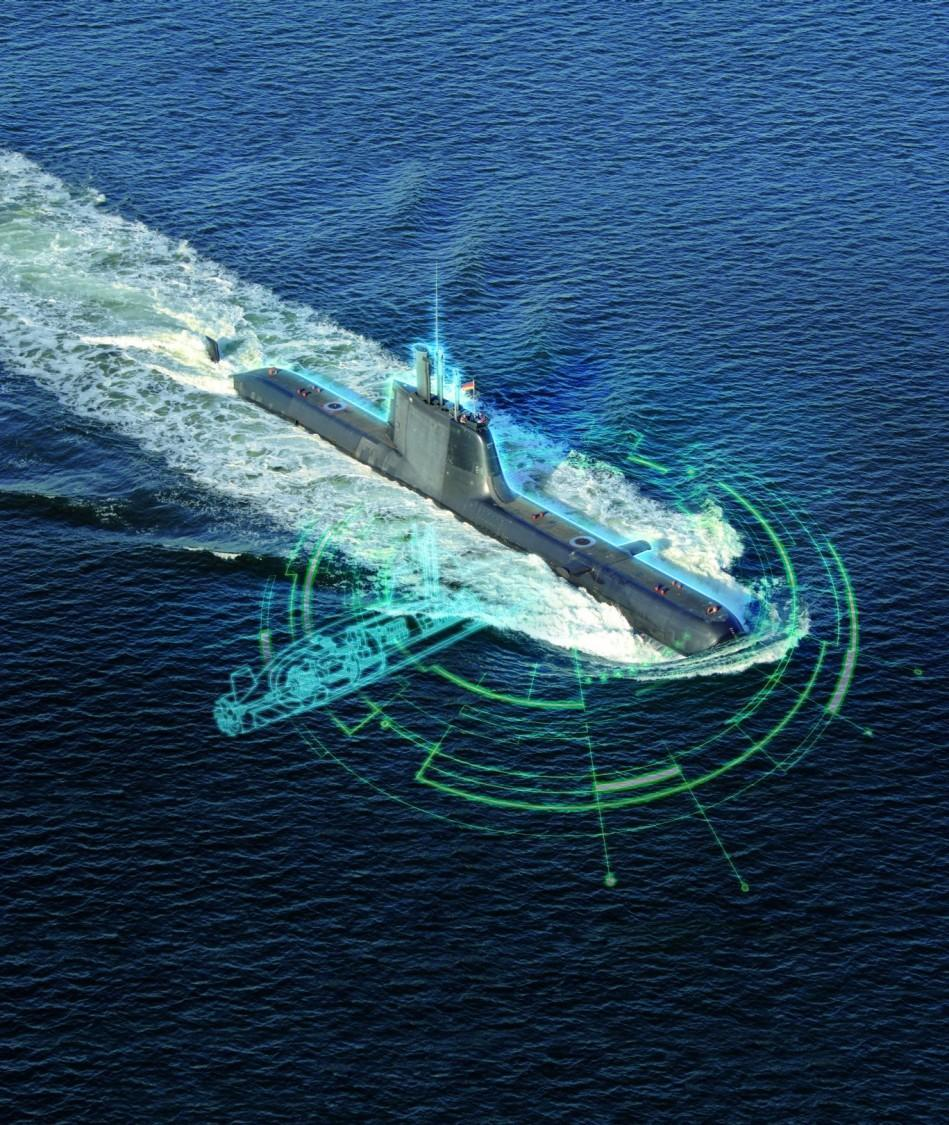Submarine: (70, 170, 895, 838)
